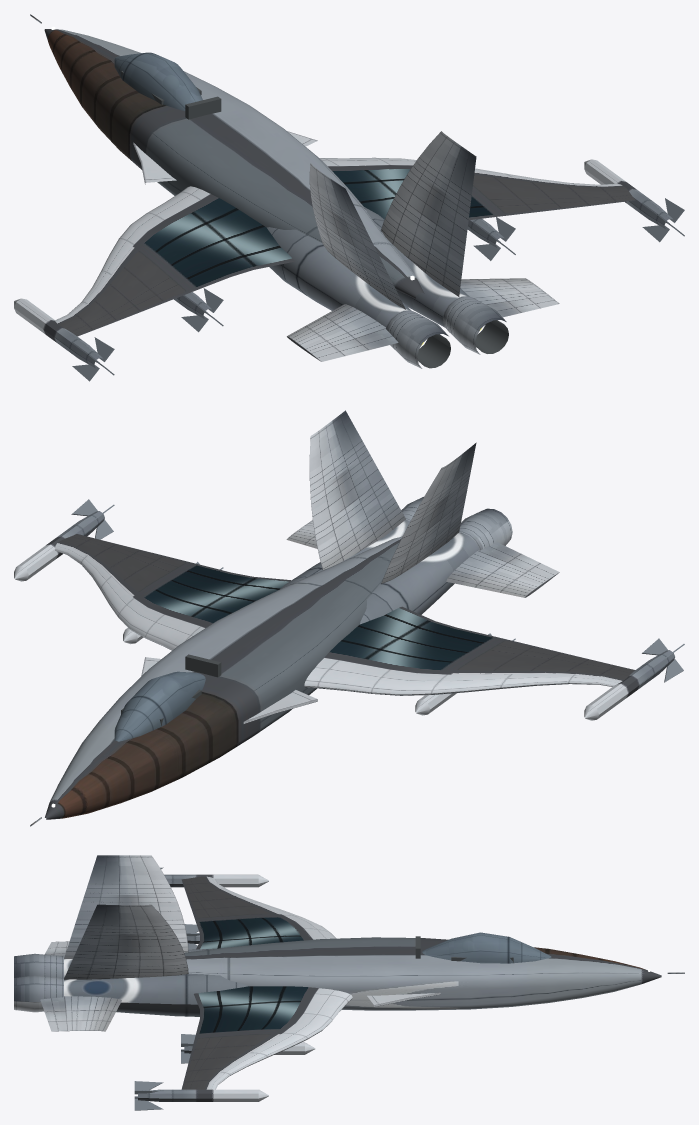
The model's file is fighter.glb.
3 views of the same model, one above another, from view 1: azimuth 30°, elevation 25°; view 2: azimuth 150°, elevation 25°; view 3: azimuth 270°, elevation 25° (orthographic). The views are drawn at different scales.
Parts seen in each view (by area): view 1: fighter; view 2: fighter; view 3: fighter.
Part boxes in pixels (<box>): fighter: <box>14,14,684,381</box>; fighter: <box>14,410,684,826</box>; fighter: <box>14,855,684,1110</box>.
Size of the model in its own units: 5.23 by 1.35 by 6.61.
Materials: 9 (3 with a texture image).
